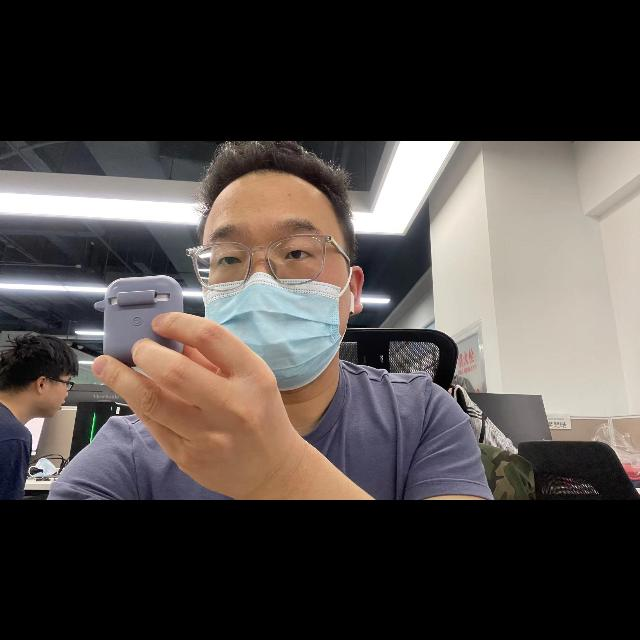airpods: (95, 274, 186, 368)
